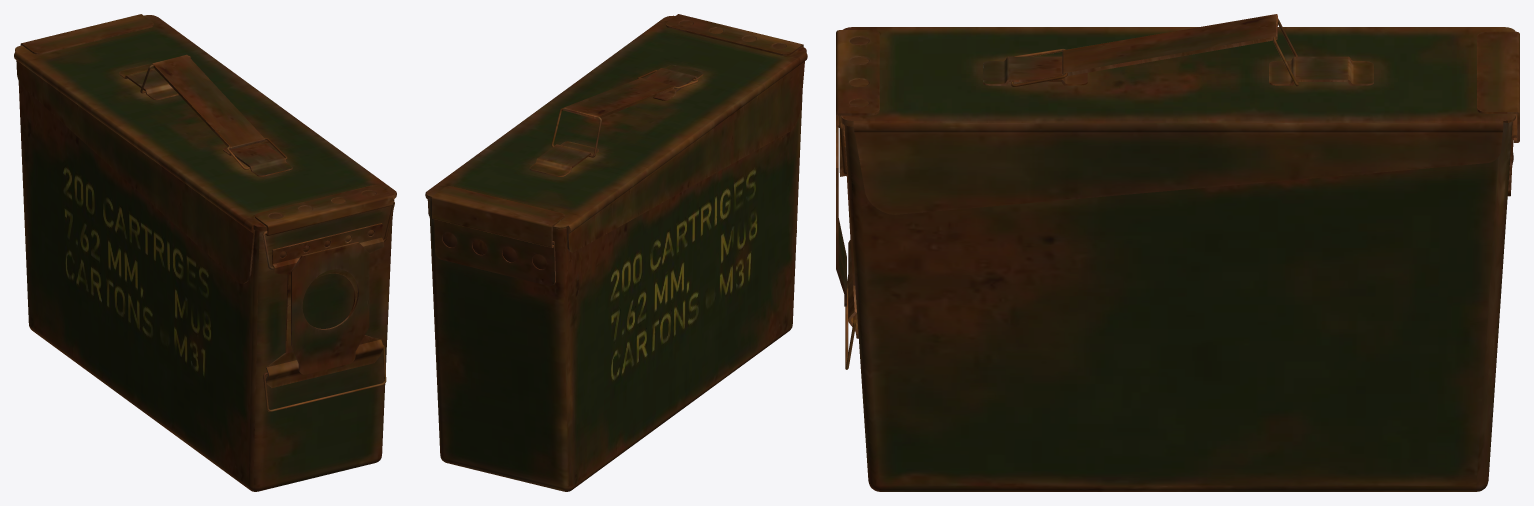
File: ammo_box.glb
3 views of the same model, side by side, from view 1: azimuth 30°, elevation 25°; view 2: azimuth 150°, elevation 25°; view 3: azimuth 270°, elevation 25° (orthographic). The views are drawn at different scales.
Visible parts, largest first — view 1: ammo_box_handle_ring_b; view 2: ammo_box_handle_ring_b; view 3: ammo_box_handle_ring_b.
Boxes of the visible parts, bbox=[...] form: ammo_box_handle_ring_b: bbox=[14, 14, 396, 491]; ammo_box_handle_ring_b: bbox=[425, 14, 807, 491]; ammo_box_handle_ring_b: bbox=[836, 14, 1519, 491].
Bounding box in the file's own units: 0.0866 × 0.1775 × 0.2579.
1 material, 1 textured.
